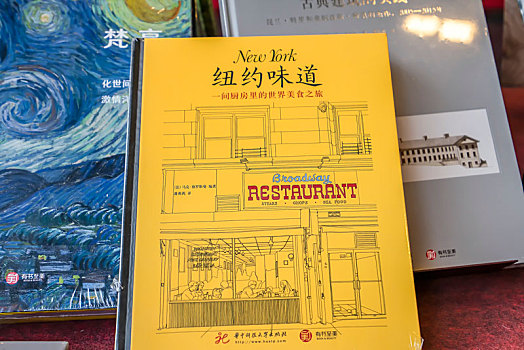book: (117, 30, 426, 349)
